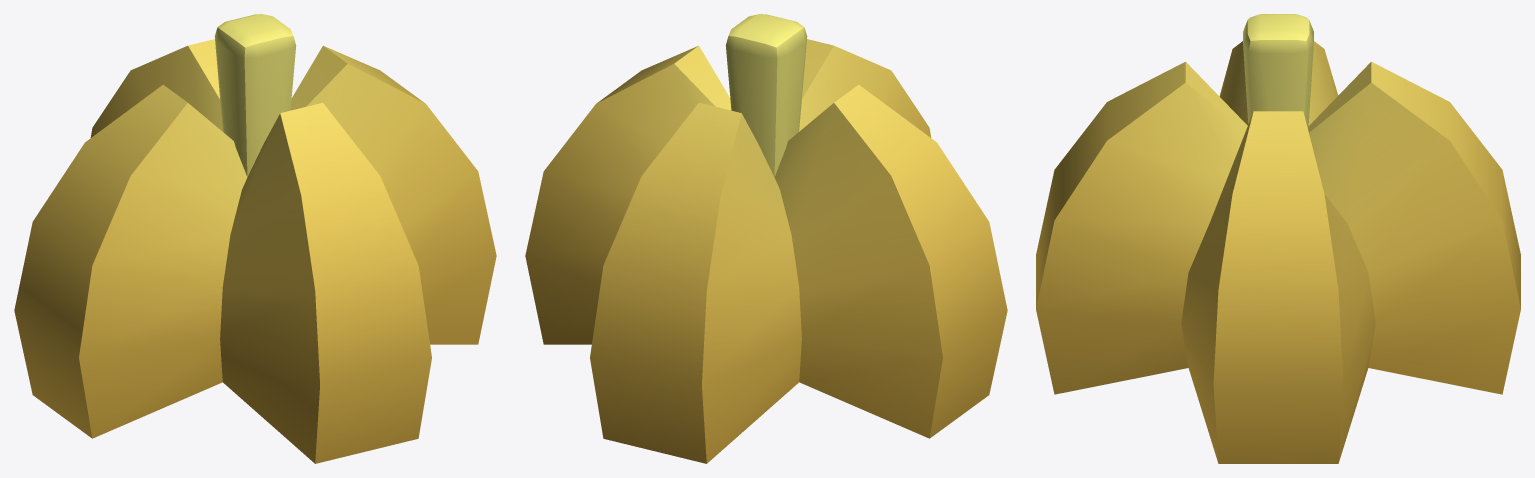
File: flower_desert1.fbx
3 views of the same model, side by side, from view 1: azimuth 30°, elevation 25°; view 2: azimuth 150°, elevation 25°; view 3: azimuth 270°, elevation 25° (orthographic).
Parts seen in each view (by area): view 1: flower_desert1; view 2: flower_desert1; view 3: flower_desert1.
Part boxes in pixels (x1=…): flower_desert1: x1=14, y1=14, x2=496, y2=463; flower_desert1: x1=525, y1=14, x2=1007, y2=463; flower_desert1: x1=1036, y1=14, x2=1520, y2=463.
Bounding box in the file's own units: 32.57 × 25.73 × 32.57.
